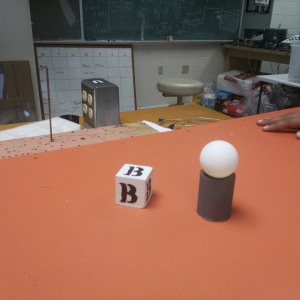blockB: (111, 159, 156, 210)
obstacle: (196, 137, 241, 232)
